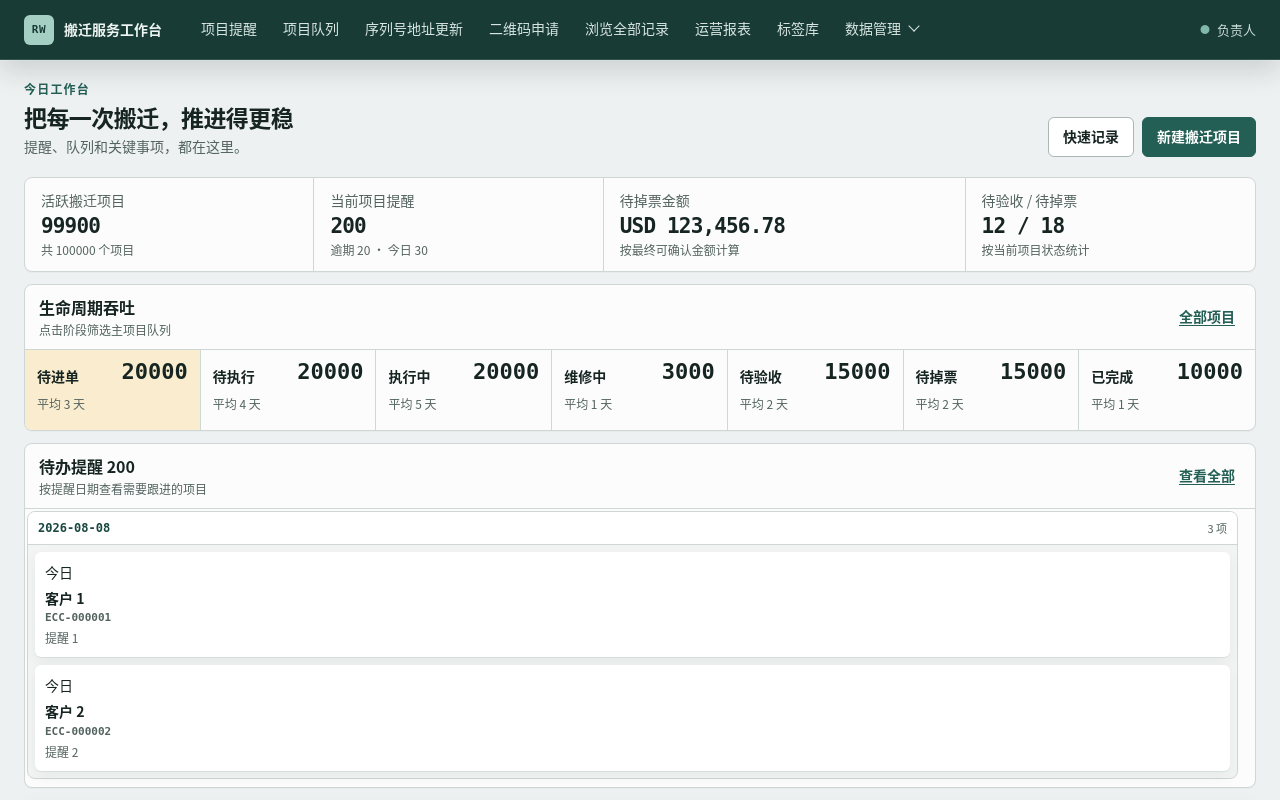
Test: Oracle #10 bounded workbench renderer › 新建搬迁项目默认正式进单，保存意图及选项按要求排序
Click the button "新建搬迁项目".
click(1199, 137)  # box left=1142, top=117, right=1256, bottom=157
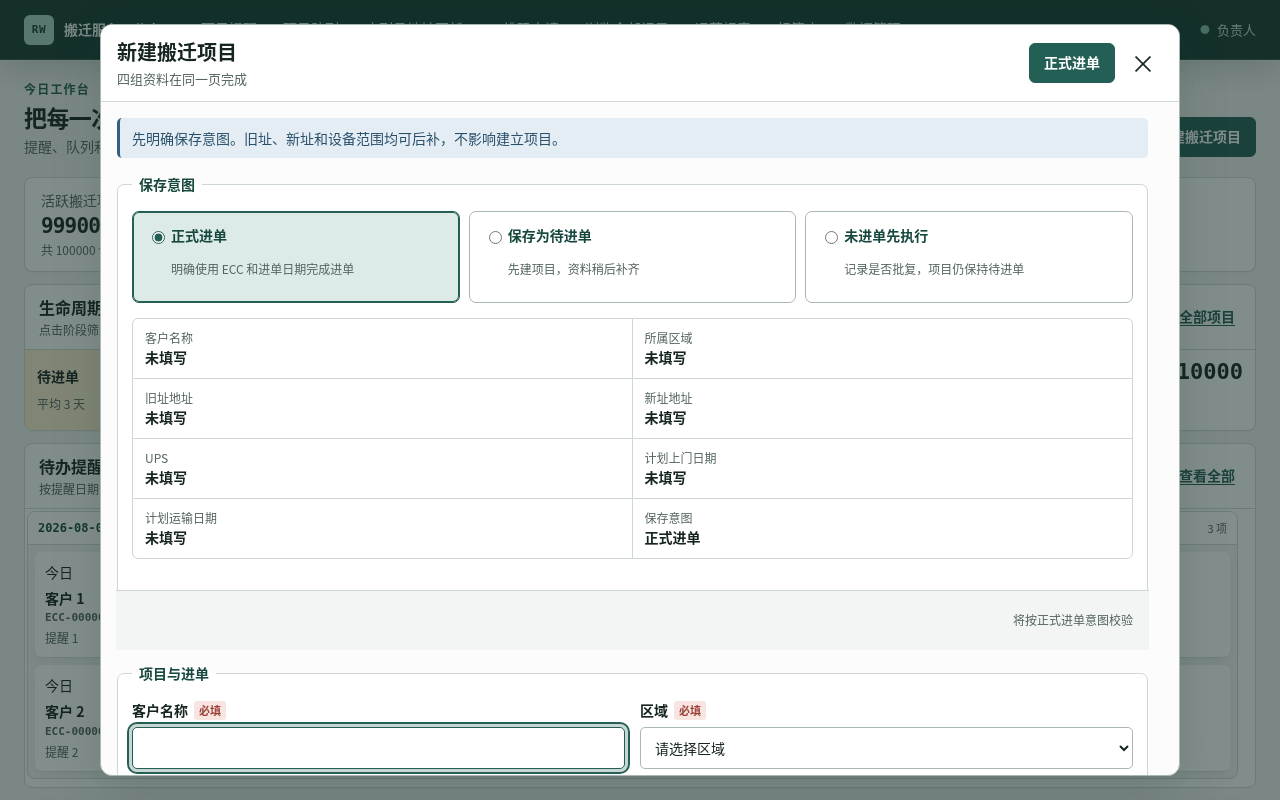
Expected: the radio button labelled "正式进单 明确使用 ECC 和进单日期完成进单" is checked, left=152, top=231, right=165, bottom=244
Expected: the header "正式进单" is shown, left=101, top=25, right=1179, bottom=102
